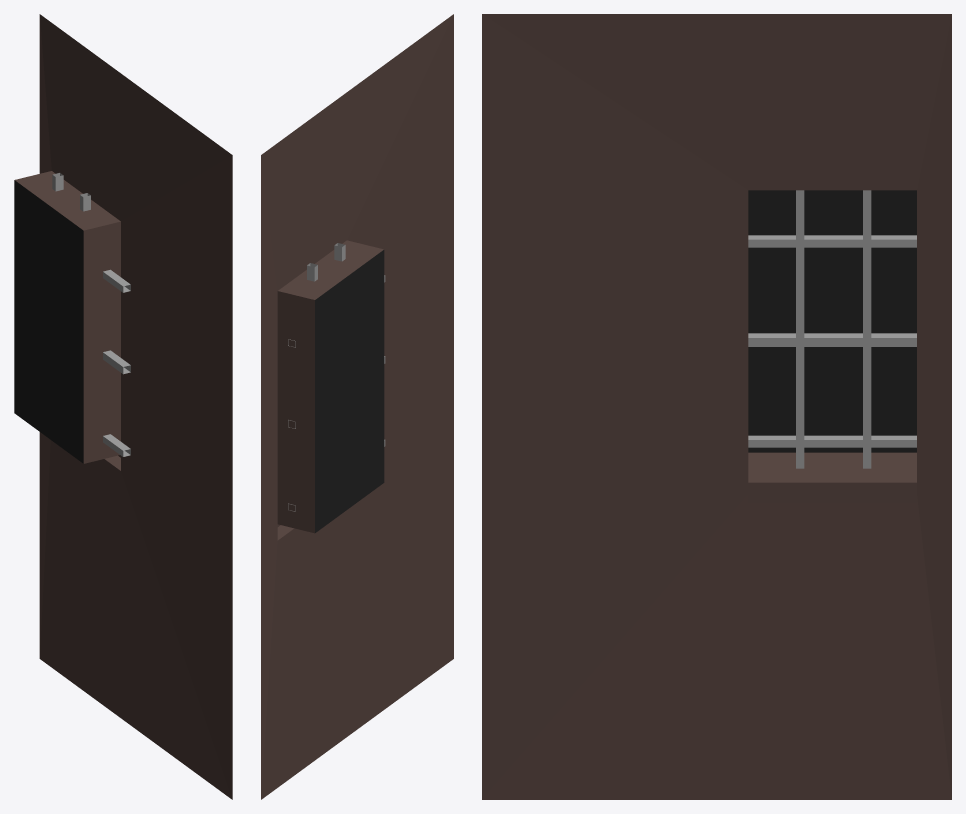
File: houseWall_9.fbx
3 views of the same model, side by side, from view 1: azimuth 30°, elevation 25°; view 2: azimuth 150°, elevation 25°; view 3: azimuth 270°, elevation 25° (orthographic). The views are drawn at different scales.
Visible parts, largest first — view 1: houseWall_9; view 2: houseWall_9; view 3: houseWall_9.
Boxes of the visible parts, x1,y1,x2,y2 form: houseWall_9: [14, 14, 232, 799]; houseWall_9: [261, 14, 453, 799]; houseWall_9: [482, 14, 951, 799].
Size of the model in its own units: 39.63 by 480 by 260.
